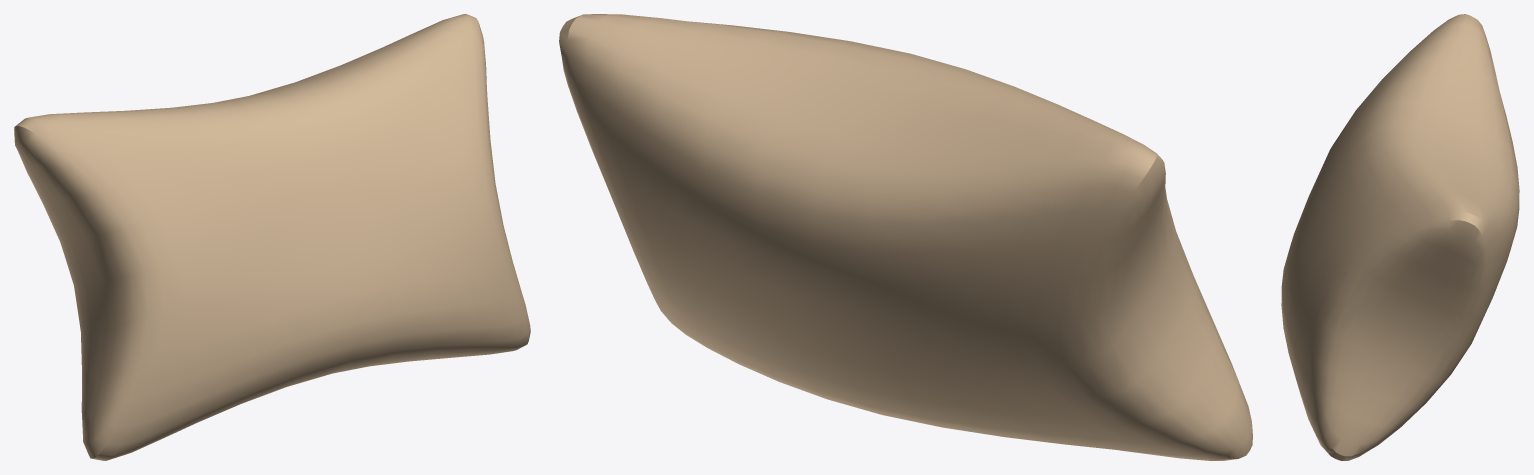
Rendered from SM_pillow.glb.
3 renders of one model, left to right at view 1: azimuth 30°, elevation 25°; view 2: azimuth 150°, elevation 25°; view 3: azimuth 270°, elevation 25°, orthographic. The views are drawn at different scales.
Visible parts, largest first — view 1: SM_pillow; view 2: SM_pillow; view 3: SM_pillow.
Part boxes in pixels (bbox=[...]): SM_pillow: bbox=[14, 14, 530, 460]; SM_pillow: bbox=[559, 14, 1252, 460]; SM_pillow: bbox=[1281, 14, 1519, 460].
Bounding box in the file's own units: 1.01 × 0.6145 × 0.4964.
